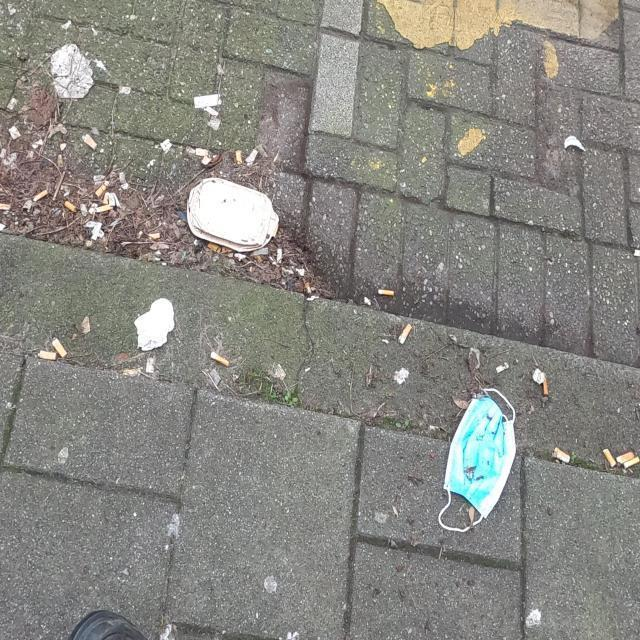Can-Metal: (48, 41, 96, 100)
Mask: (437, 386, 517, 534)
Paper: (186, 176, 280, 254), (134, 295, 176, 354)
